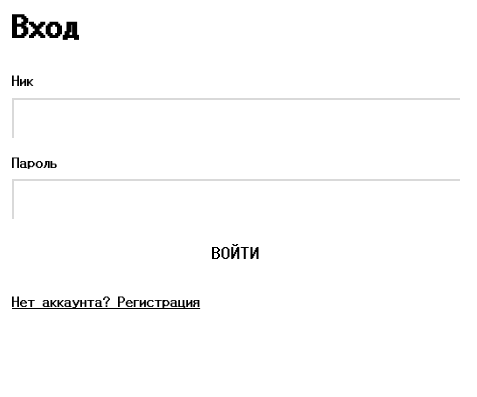
it: LoginForm › shows validation error for empty nickname
The image size is (477, 397).
What coordinates should you click on to do the following:
click the button "Войти"
I would click on:
 (236, 255)
Its box is [12,235,460,275].
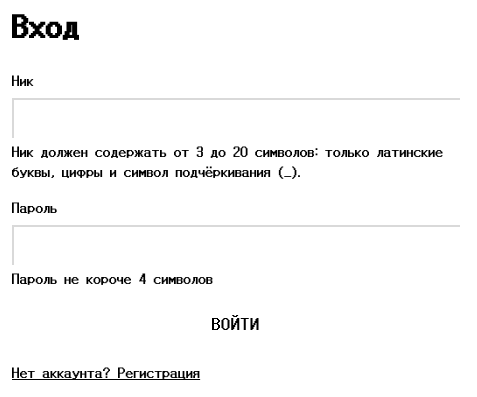
Expected: the number of messages is 2, [12,143,460,183]; [12,273,213,287]
